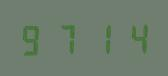four: (117, 19, 149, 54)
nine: (18, 21, 50, 56)
one: (84, 19, 116, 55)
seven: (51, 20, 83, 56)
